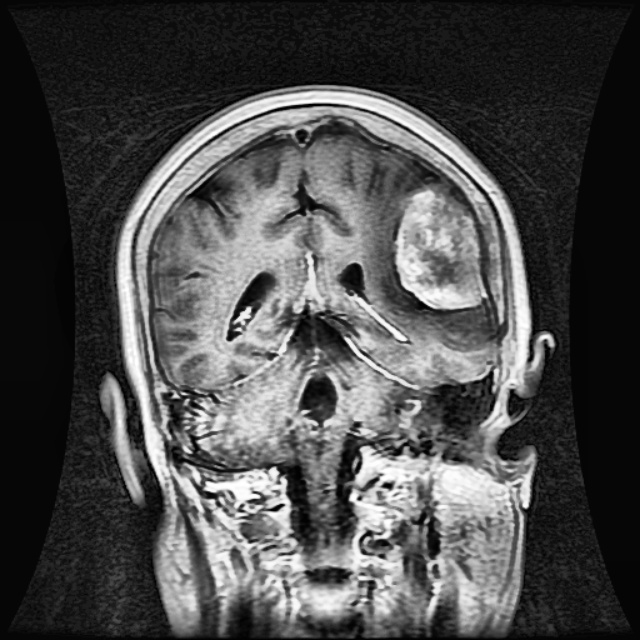Glioma: (394, 179, 488, 310)
